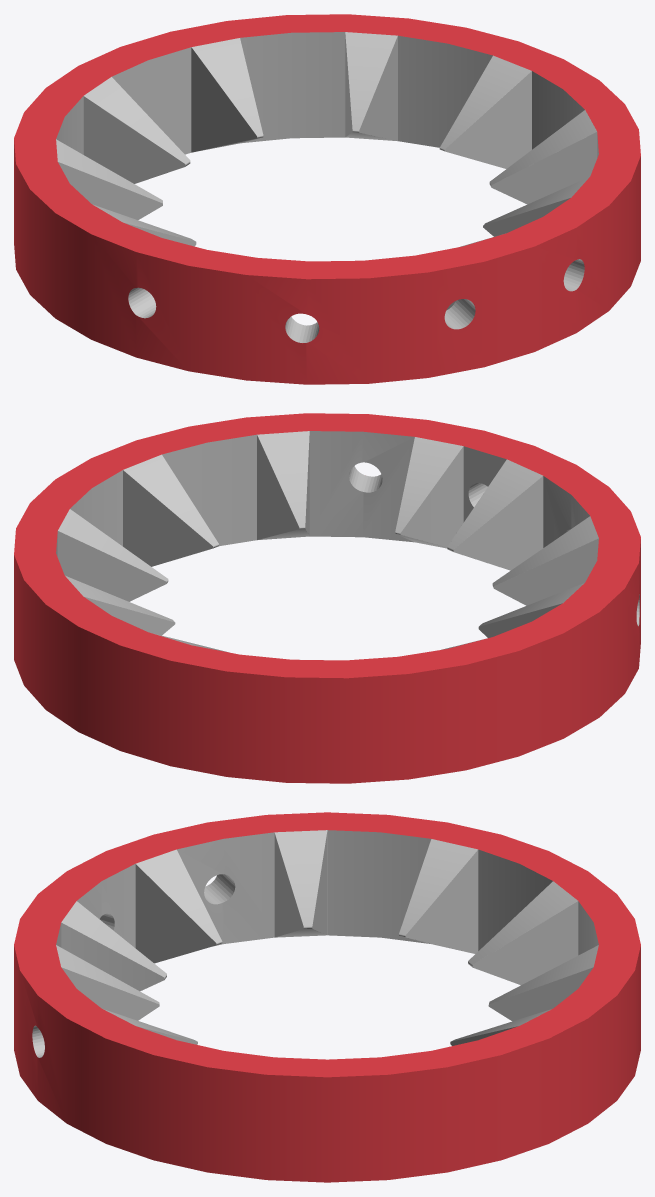
File: colar.glb
3 views of the same model, one above another, from view 1: azimuth 30°, elevation 25°; view 2: azimuth 150°, elevation 25°; view 3: azimuth 270°, elevation 25° (orthographic).
Parts seen in each view (by area): view 1: colar; view 2: colar; view 3: colar.
Part boxes in pixels (x1=…): colar: x1=14, y1=14, x2=640, y2=384; colar: x1=14, y1=413, x2=640, y2=783; colar: x1=14, y1=812, x2=640, y2=1182.
Bounding box in the file's own units: 0.1671 × 0.031 × 0.1671.
